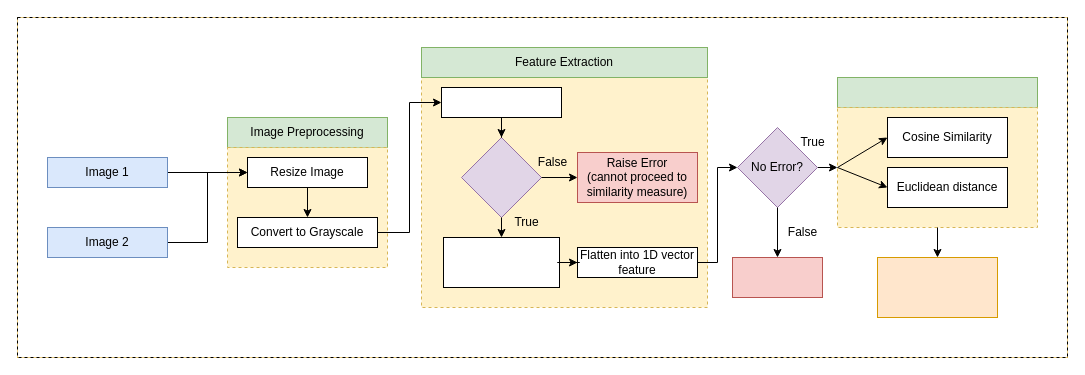
This 1085x375 diagram has some shape labels left out. The centre of each missing label's shape, as x and y in pixels:
Execute Haar Cascade Classifier: the point at 501,102
Extract face, nose, mouth & eyes features: the point at 501,262
Face detected?: the point at 501,177
Image Similarity Measure: the point at 937,92
Map score to Percentage 0-100%: the point at 937,287
Raise Error: the point at 777,277
